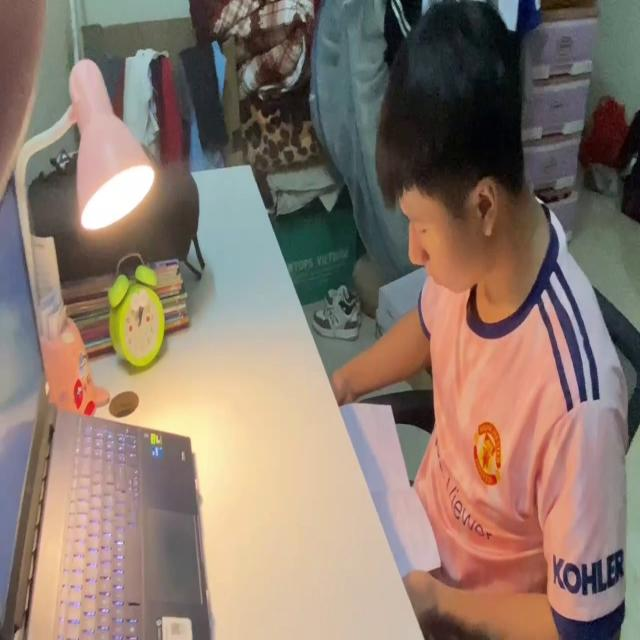book: (334, 399, 442, 604)
laptop: (1, 162, 210, 640)
student: (329, 0, 627, 640)
